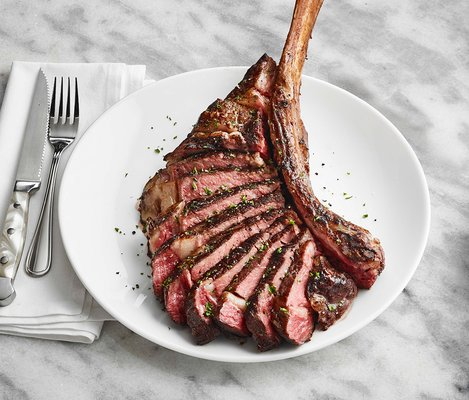burger: (25, 74, 81, 277)
salad: (24, 73, 81, 278)
sandwich: (0, 68, 50, 265)
